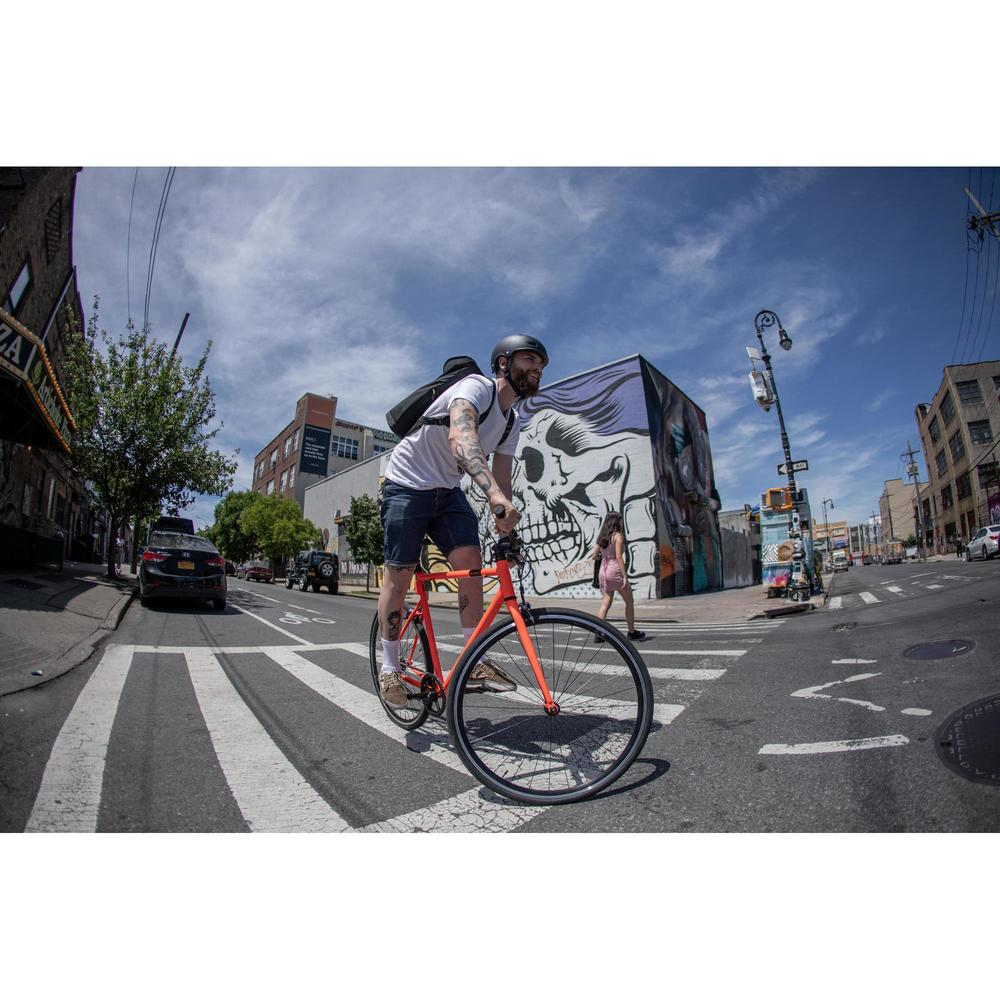UrbanBike: (356, 484, 661, 813)
